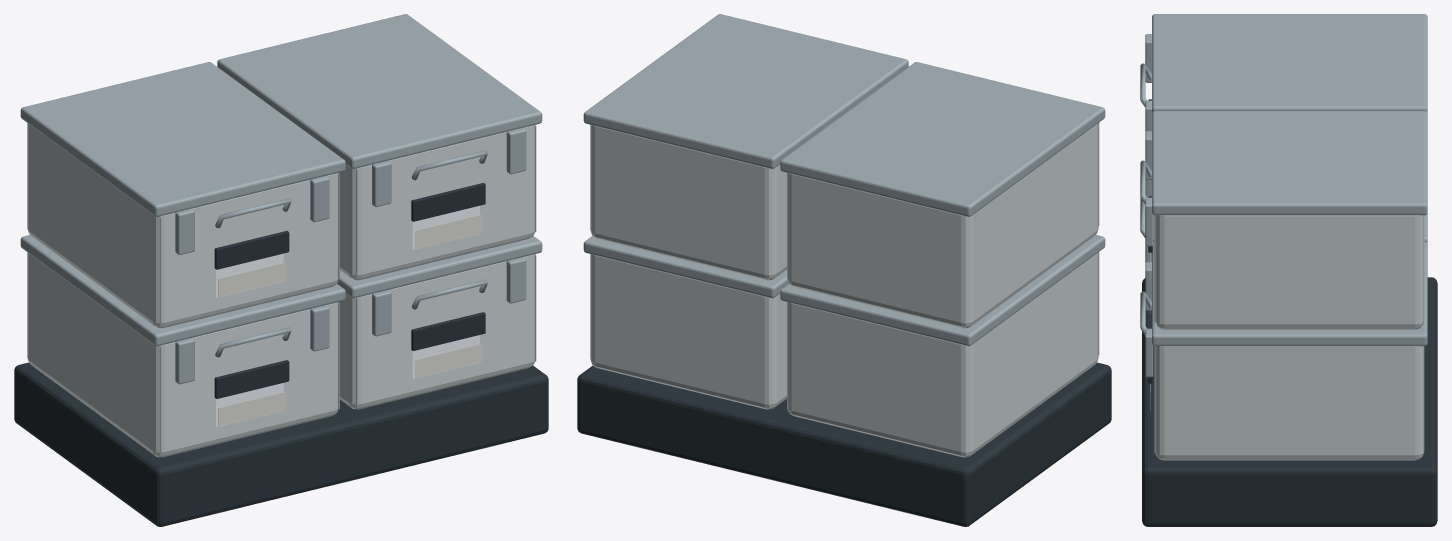
The model's file is SF_SealedSupplyCrates.fbx.
3 renders of one model, left to right at view 1: azimuth 30°, elevation 25°; view 2: azimuth 150°, elevation 25°; view 3: azimuth 270°, elevation 25°, orthographic.
Visible parts, largest first — view 1: SF_SealedSupplyCrates; view 2: SF_SealedSupplyCrates; view 3: SF_SealedSupplyCrates.
Part boxes in pixels (x1,y1,x2,y2): SF_SealedSupplyCrates: [14, 14, 548, 526]; SF_SealedSupplyCrates: [577, 14, 1111, 526]; SF_SealedSupplyCrates: [1140, 14, 1437, 526].
Bounding box in the file's own units: 140 × 109 × 90.48.
